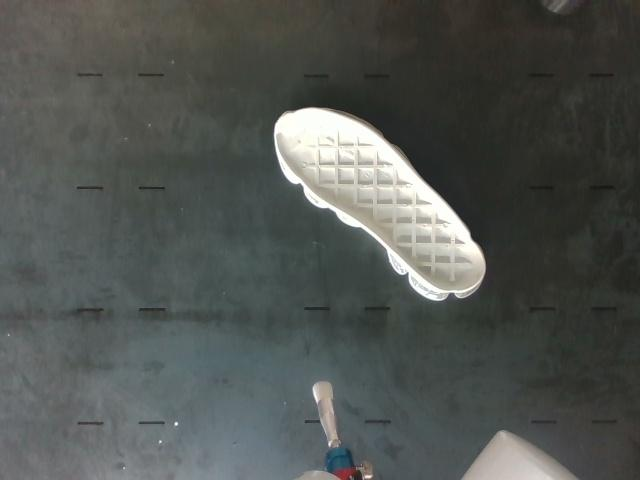shoes: (276, 108, 485, 293)
